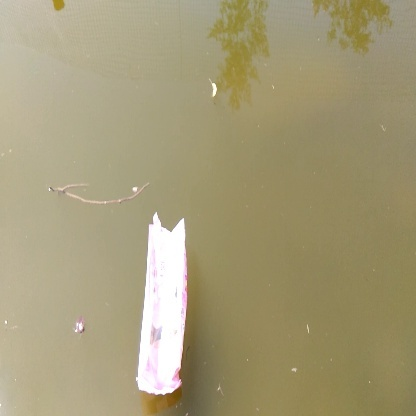branch: (49, 174, 152, 209)
plastic-bag: (133, 213, 188, 397)
